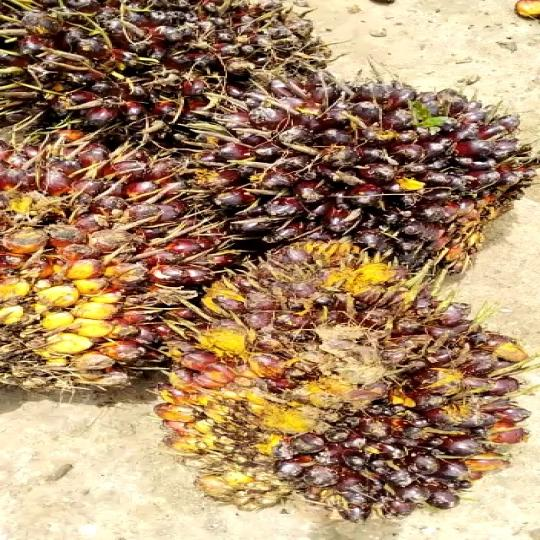kurang masak: (158, 228, 535, 514), (185, 75, 540, 266), (0, 127, 223, 402), (0, 0, 338, 155)
